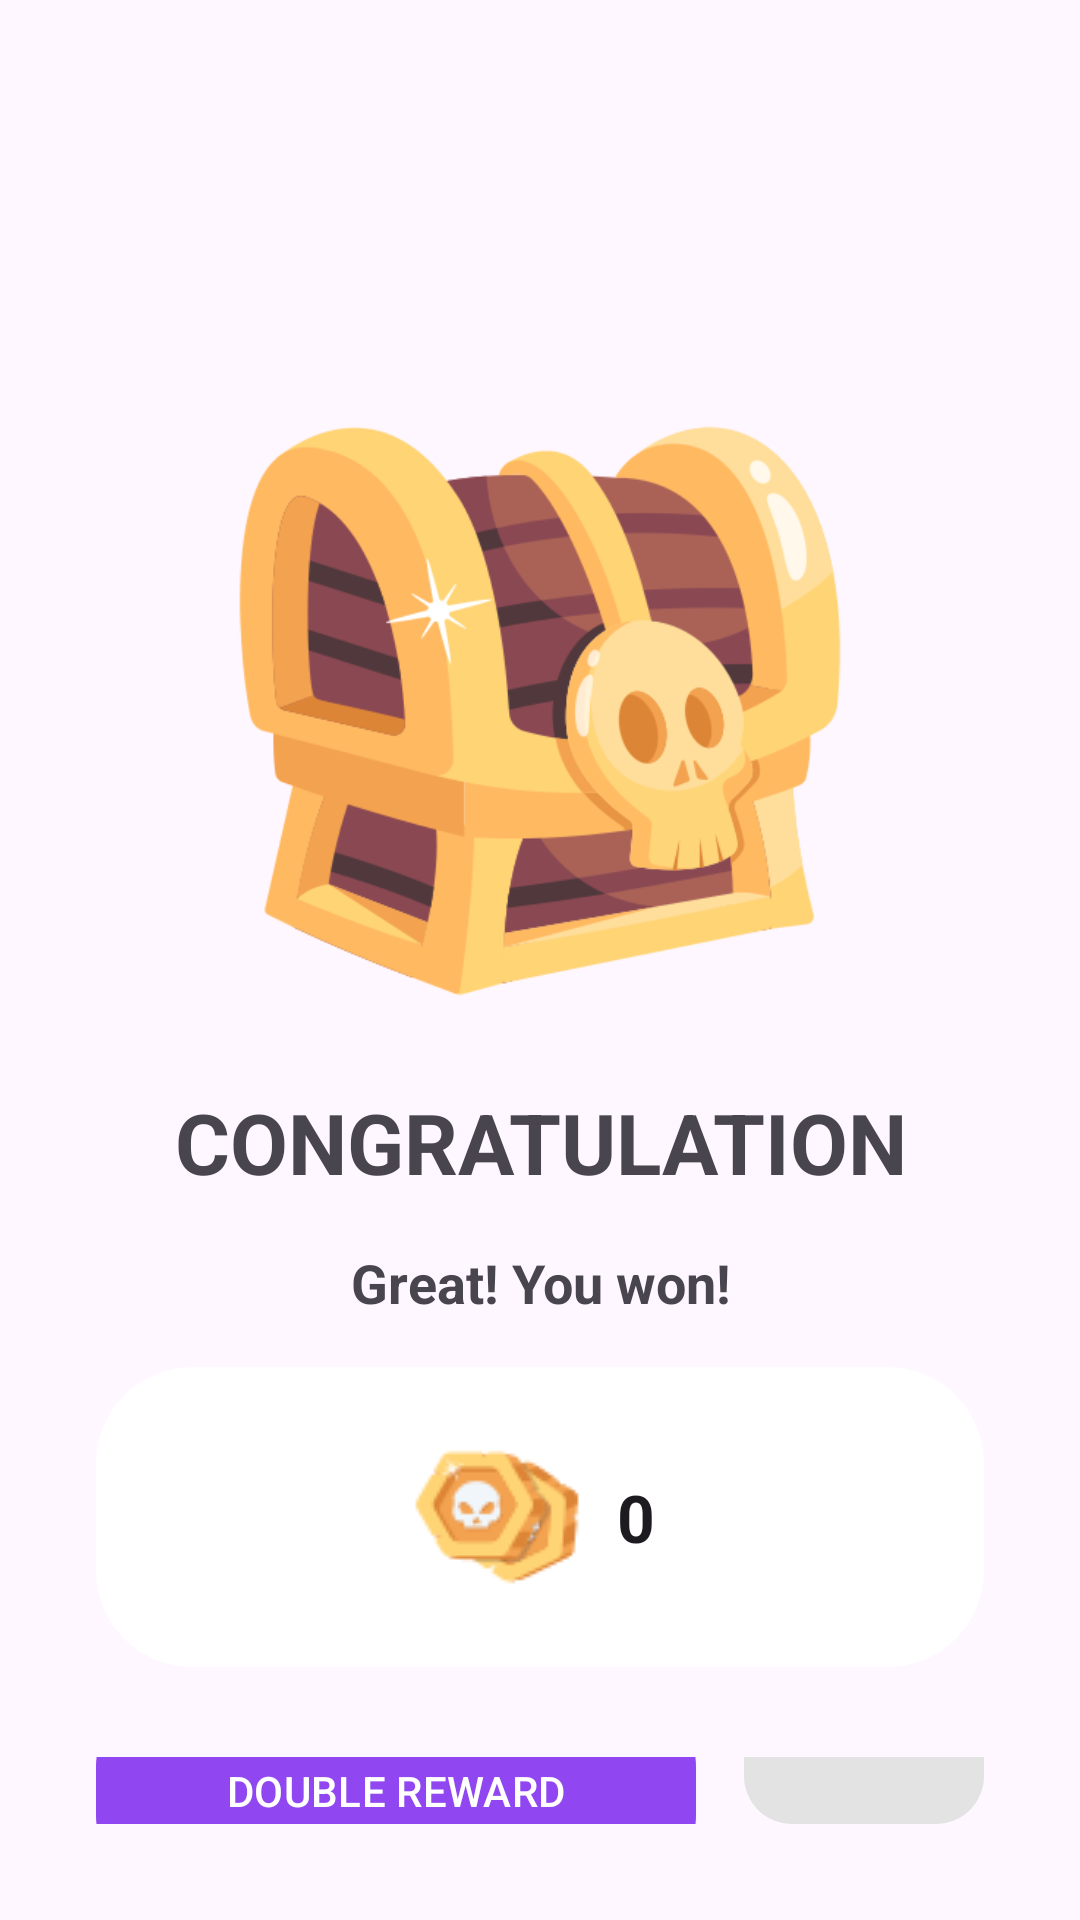

Screen size 1080px x 1920px. Icon name, then its center in pixels as (x=x, y=y):
Coins rewards image: (x=497, y=1517)
